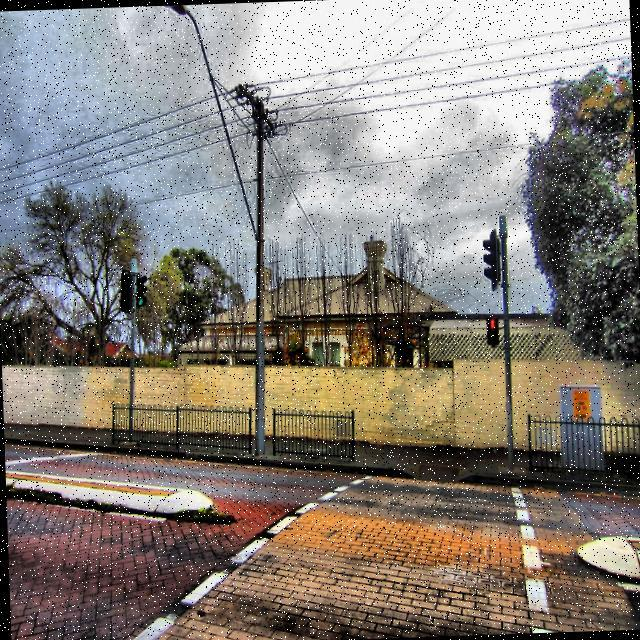red_light: (488, 316, 496, 329)
